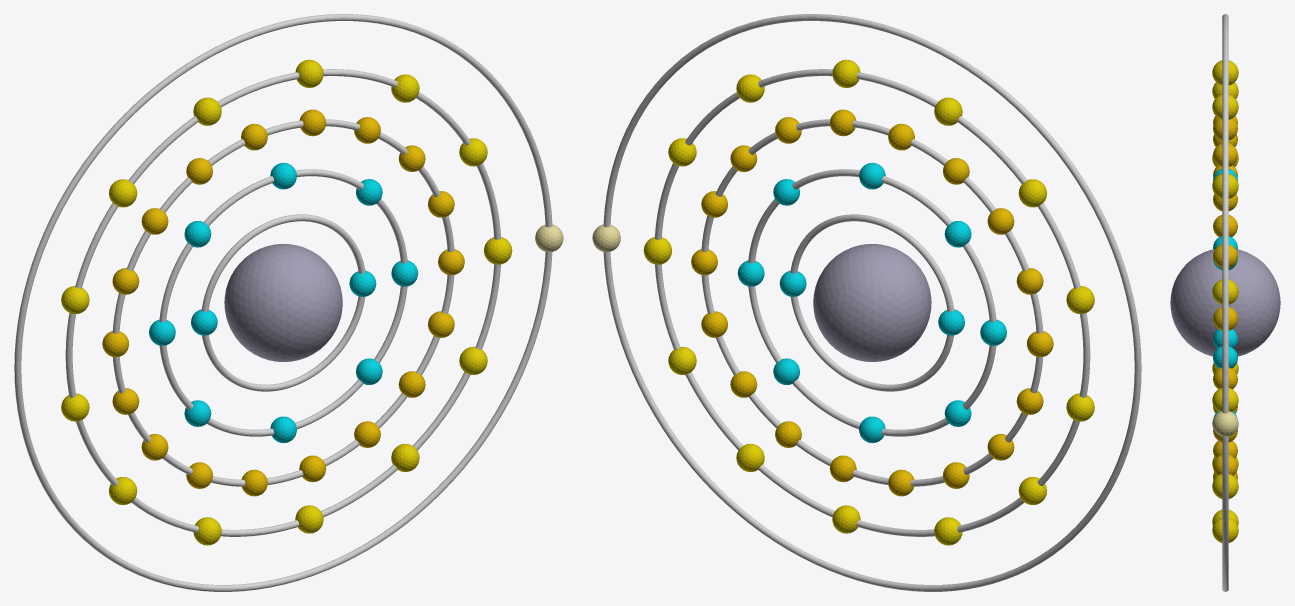
The picture shows the model from 3 angles, left to right: view 1: azimuth 30°, elevation 25°; view 2: azimuth 150°, elevation 25°; view 3: azimuth 270°, elevation 25°; orthographic projection. The views are drawn at different scales.
Visible parts, largest first — view 1: Camada_5, Nucleo_Mo, Camada_4, Camada_3, Camada_2, Camada_1; view 2: Camada_5, Nucleo_Mo, Camada_4, Camada_3, Camada_2, Camada_1; view 3: Nucleo_Mo, Camada_5, e5_1, e4_5, e4_2, e4_3, e4_4, e4_12, e4_13, e4_1, e3_5, e3_2 (+12 smaller).
Part boxes in pixels (x1,y1,x2,y2): Camada_5: (14,14,552,591); Nucleo_Mo: (224,244,342,361); Camada_4: (65,69,500,536); Camada_3: (112,119,454,486); Camada_2: (159,169,407,436); Camada_1: (201,214,365,391); Camada_5: (603,14,1141,591); Nucleo_Mo: (813,244,931,361); Camada_4: (655,69,1090,536); Camada_3: (701,119,1043,486); Camada_2: (748,169,996,436); Camada_1: (790,214,954,391); Nucleo_Mo: (1170,249,1280,356); Camada_5: (1222,14,1228,591); e5_1: (1212,411,1238,436); e4_5: (1212,60,1238,85); e4_2: (1212,279,1238,304); e4_3: (1212,173,1238,198); e4_4: (1212,94,1238,119); e4_12: (1212,517,1238,542); e4_13: (1212,474,1238,498); e4_1: (1212,388,1238,411); e3_5: (1213,143,1237,166); e3_2: (1213,307,1237,330).
Bounding box in the file's own units: 2.35 × 2.31 × 0.44.
